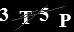3: (1, 7, 8, 22)
5: (37, 7, 49, 22)
P: (57, 13, 72, 28)
T: (17, 9, 33, 25)
